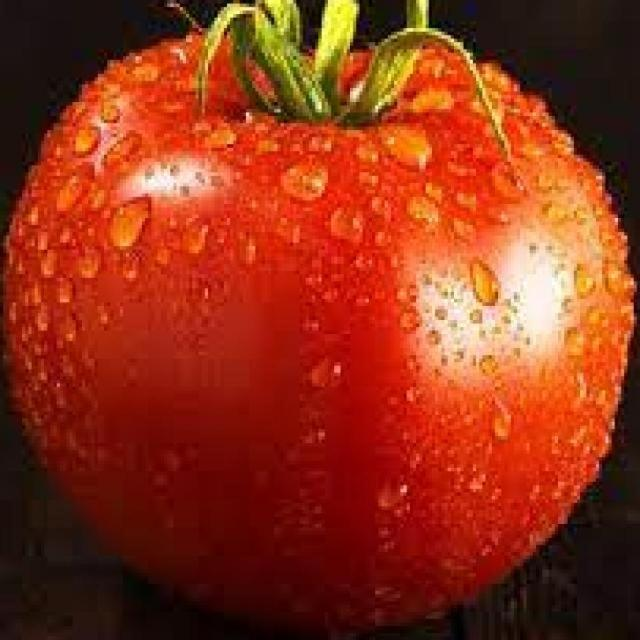Healthy Fruit: (8, 9, 427, 419)
